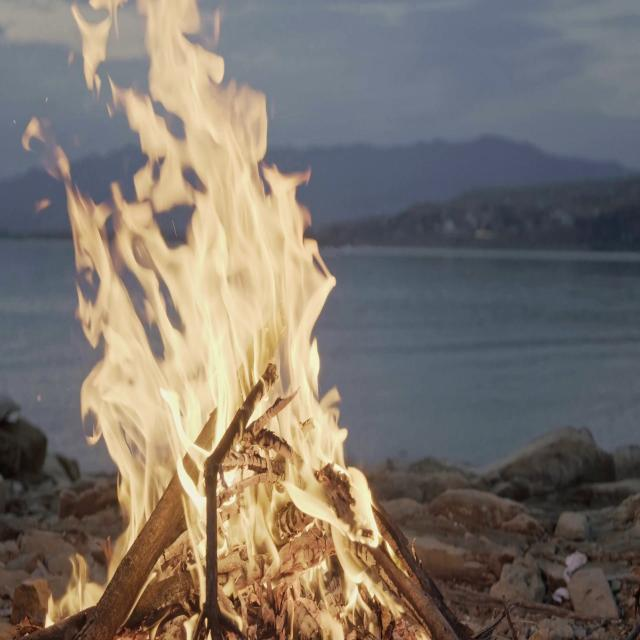Fire: (20, 0, 400, 640)
